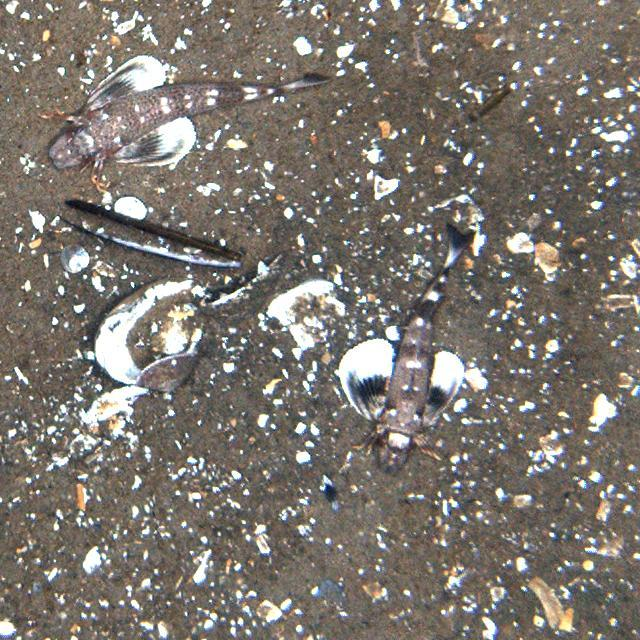roundfish: (45, 51, 329, 173), (342, 221, 476, 476)
